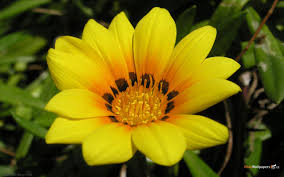flower: (33, 15, 246, 170)
